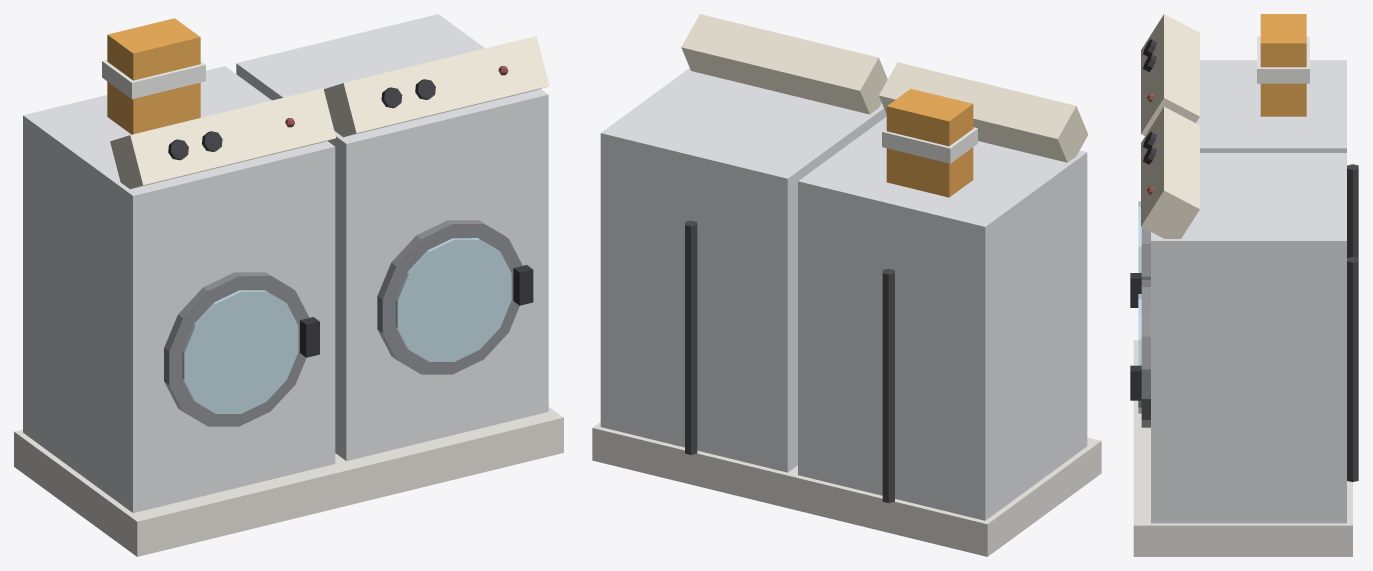
The model's file is HJ_Lavadora.fbx.
3 renders of one model, left to right at view 1: azimuth 30°, elevation 25°; view 2: azimuth 150°, elevation 25°; view 3: azimuth 270°, elevation 25°, orthographic. The views are drawn at different scales.
Visible parts, largest first — view 1: HJ_Lavadora; view 2: HJ_Lavadora; view 3: HJ_Lavadora.
Part boxes in pixels (x1,y1,x2,y2): HJ_Lavadora: (14, 14, 563, 556); HJ_Lavadora: (592, 14, 1101, 556); HJ_Lavadora: (1130, 14, 1358, 556).
Size of the model in its own units: 1.9 by 1.85 by 0.991.
